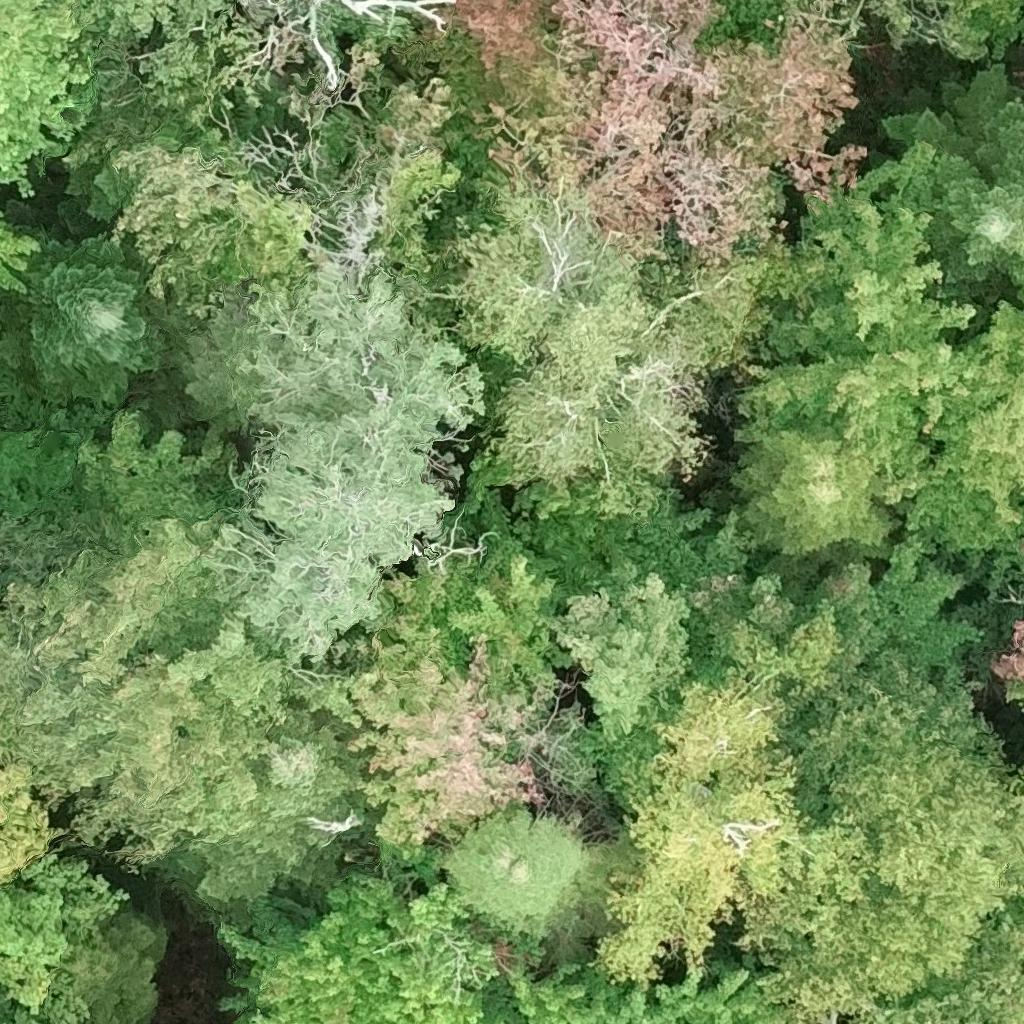crown: (418, 0, 870, 263), (204, 264, 485, 668), (461, 224, 815, 521), (343, 472, 602, 868), (752, 659, 1023, 1023), (730, 148, 974, 508), (39, 516, 288, 837), (519, 481, 753, 816), (752, 551, 986, 815), (222, 844, 546, 1023), (601, 778, 820, 978), (644, 601, 845, 794), (888, 276, 1023, 557), (451, 150, 614, 368), (880, 69, 1023, 302), (0, 231, 167, 415), (727, 424, 902, 555), (852, 891, 1023, 1023), (95, 0, 265, 126), (0, 860, 127, 1023), (0, 0, 102, 198), (443, 808, 588, 947), (514, 959, 783, 1023), (825, 0, 1023, 66), (983, 533, 1023, 711), (0, 750, 56, 875), (293, 0, 419, 37), (0, 213, 37, 293), (1018, 763, 1023, 784), (238, 0, 261, 4), (1021, 885, 1023, 906)
